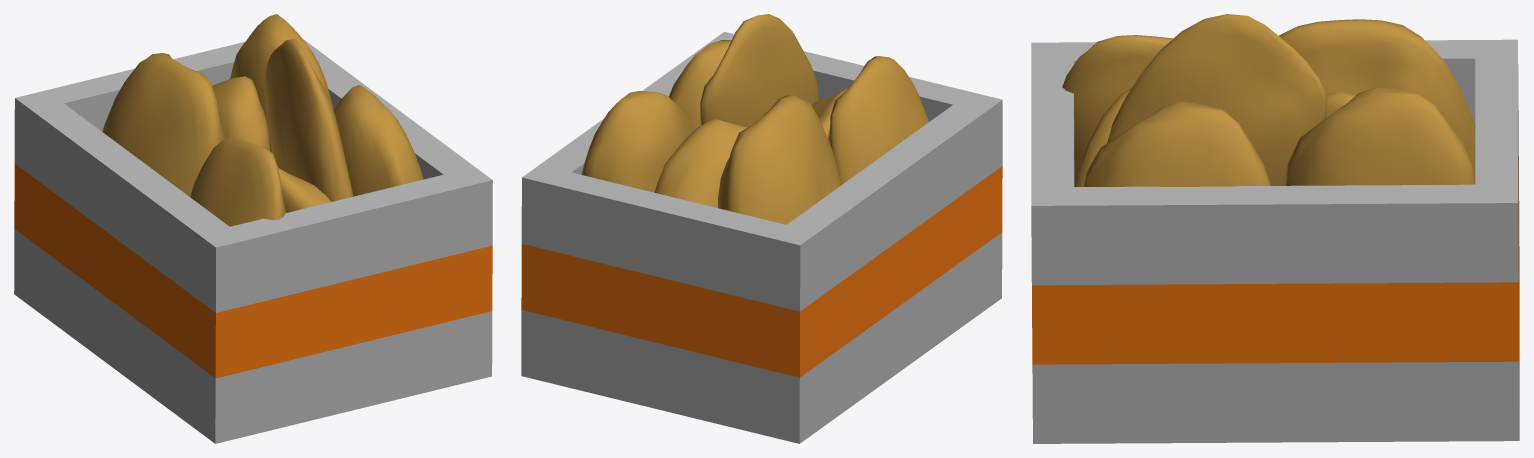
Rendered from Comida_VR08.fbx.
3 renders of one model, left to right at view 1: azimuth 30°, elevation 25°; view 2: azimuth 150°, elevation 25°; view 3: azimuth 270°, elevation 25°, orthographic. The views are drawn at different scales.
Visible parts, largest first — view 1: Nuggets; view 2: Nuggets; view 3: Nuggets.
Part boxes in pixels (<box>): Nuggets: <box>14,14,492,443</box>; Nuggets: <box>521,14,1002,443</box>; Nuggets: <box>1031,14,1519,443</box>.
Size of the model in its own units: 120 by 124 by 152.
